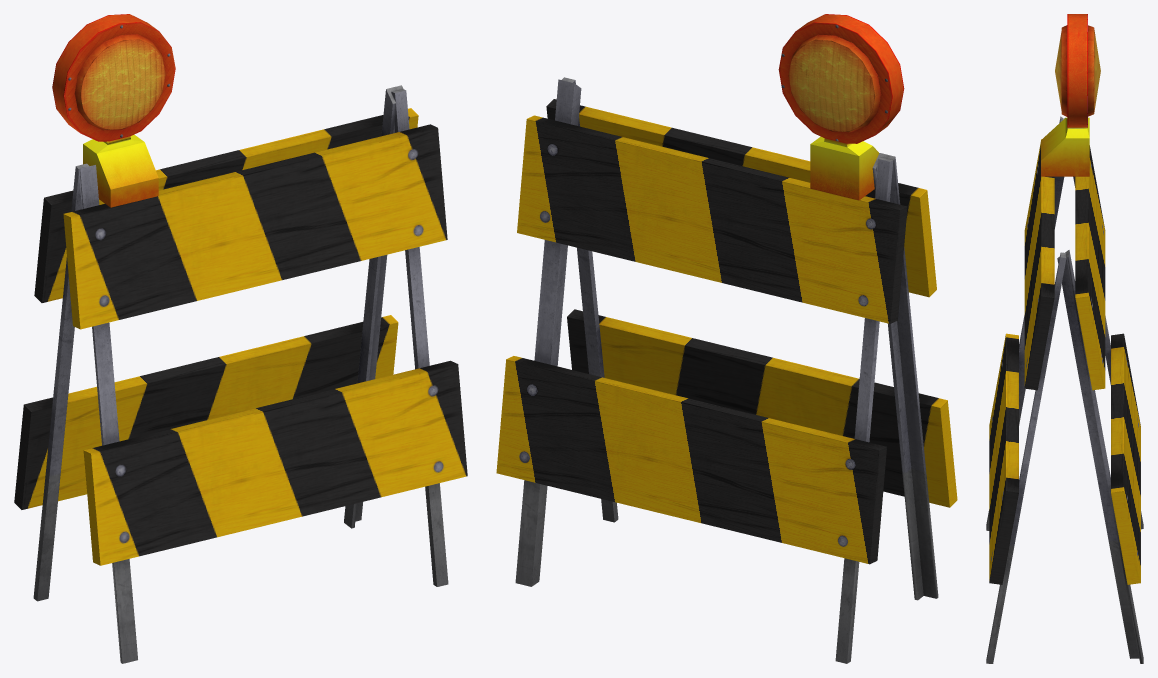
The model's file is Obatacle_02.fbx.
The picture shows the model from 3 angles, left to right: view 1: azimuth 30°, elevation 25°; view 2: azimuth 150°, elevation 25°; view 3: azimuth 270°, elevation 25°; orthographic projection. The views are drawn at different scales.
Parts seen in each view (by area): view 1: Obatacle_02; view 2: Obatacle_02; view 3: Obatacle_02.
Part boxes in pixels (x1,y1,x2,y2): Obatacle_02: (14, 14, 467, 663); Obatacle_02: (496, 14, 957, 663); Obatacle_02: (986, 14, 1143, 663).
Size of the model in its own units: 0.0738 by 0.1146 by 0.0312.
1 material, 1 textured.
